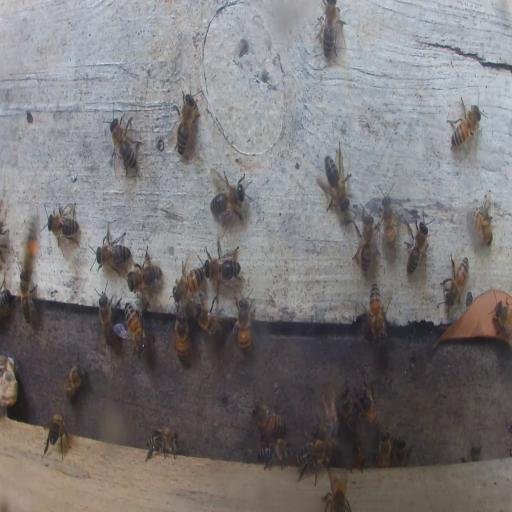nonpollenbee: (208, 170, 250, 228), (319, 144, 352, 216), (107, 108, 141, 176), (318, 1, 349, 59), (448, 100, 483, 149), (94, 229, 131, 274), (352, 206, 377, 272), (174, 94, 198, 160), (297, 438, 330, 486), (442, 251, 470, 307), (404, 215, 429, 276), (44, 202, 80, 244), (206, 242, 240, 284), (252, 396, 286, 438), (193, 295, 225, 339), (125, 302, 149, 359), (128, 258, 162, 296), (172, 264, 207, 300), (145, 426, 181, 460), (368, 280, 387, 344), (43, 414, 70, 459), (19, 270, 39, 327), (357, 382, 380, 431), (258, 439, 294, 469), (236, 295, 252, 356), (97, 290, 115, 344), (380, 191, 396, 251), (339, 385, 359, 431), (468, 206, 492, 244), (174, 307, 190, 364), (64, 357, 85, 400), (490, 300, 512, 340), (327, 472, 349, 512), (322, 381, 338, 434), (374, 430, 392, 467), (393, 433, 407, 465), (352, 443, 366, 472), (1, 287, 14, 317)
pollenbee: (20, 215, 41, 283)
